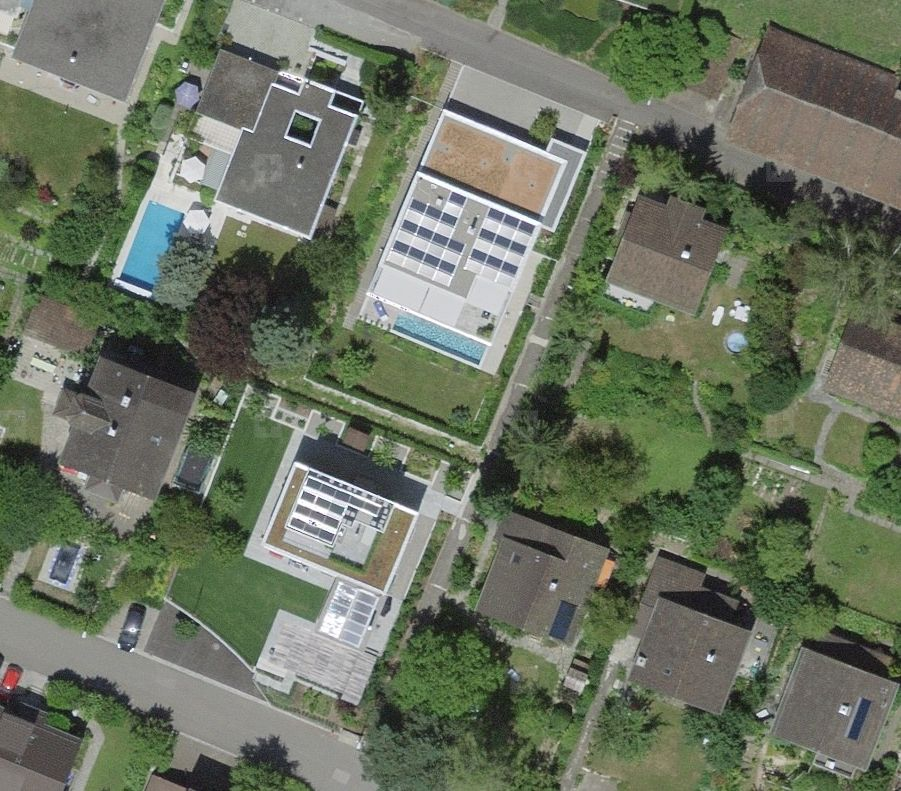solar: (384, 188, 542, 300), (285, 476, 380, 556), (319, 579, 382, 647), (537, 589, 585, 652), (840, 689, 880, 754)
